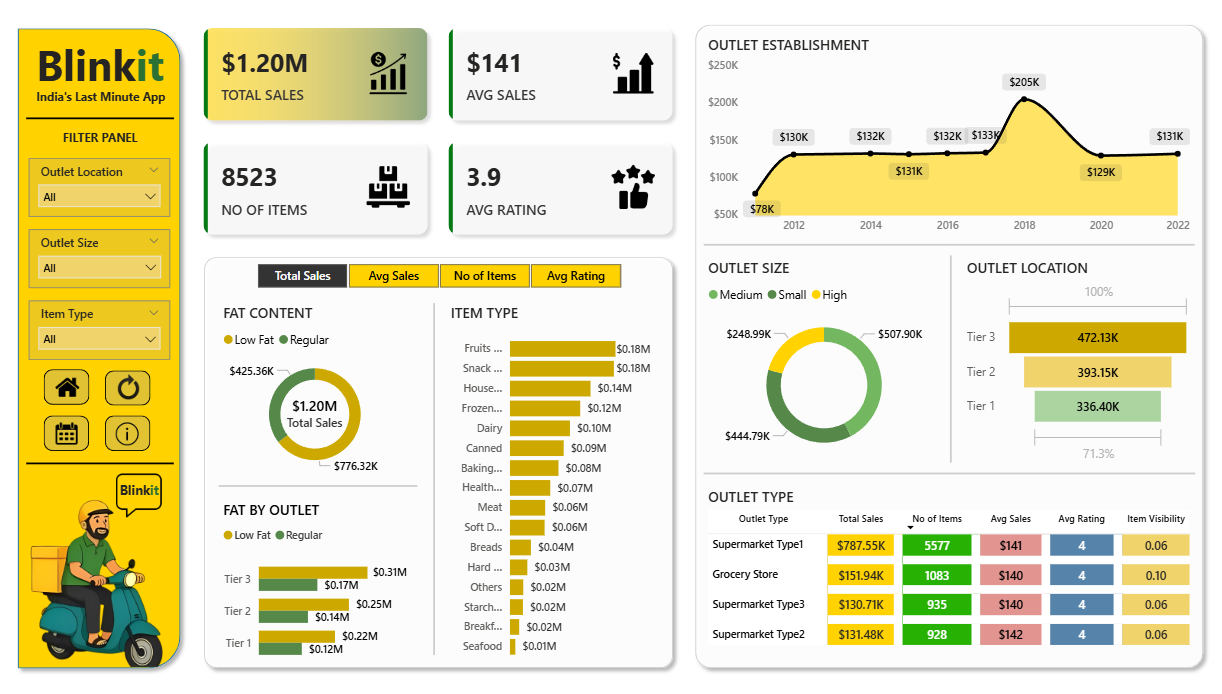

Layout of this report page (visuals, bound fields, positions):
{"tool":"powerbi","page":{"name":"Page 1","canvas":[1400,800],"ordinal":0},"visuals":[{"type":"shape","box":[12.1,25.5,203.8,749.3],"z":0},{"type":"textbox","box":[29.5,38.9,168.9,73.7],"z":1000},{"type":"textbox","box":[29.5,99.2,170.2,28.2],"z":2000},{"type":"cardVisual","fields":{"Data":["BlinkIT Grocery Data.Total Sales","BlinkIT Grocery Data.Avg Sales","BlinkIT Grocery Data.No of Items","BlinkIT Grocery Data.Avg Rating"]},"box":[215.9,17.1,570,270],"z":3000},{"type":"shape","box":[224.8,287.1,553.8,487.6],"z":4000},{"type":"donutChart","title":"FAT CONTENT","fields":{"Y":["BlinkIT Grocery Data.Total Sales"],"Category":["BlinkIT Grocery Data.Item Fat Content"]},"box":[250,348.5,220,203.1],"z":5000},{"type":"slicer","fields":{"Values":["Metrics.Metrics"]},"box":[268.3,296.9,464.8,40],"z":6000},{"type":"cardVisual","fields":{"Data":["BlinkIT Grocery Data.Total Sales"]},"box":[310,436.9,99.2,66.9],"z":7000},{"type":"clusteredBarChart","title":"FAT BY OUTLET","fields":{"Y":["BlinkIT Grocery Data.Total Sales"],"Category":["BlinkIT Grocery Data.Outlet Location Type"],"Series":["BlinkIT Grocery Data.Item Fat Content"]},"box":[250,572.3,220,199.2],"z":8000},{"type":"shape","box":[250,551.5,227,12.5],"z":9000},{"type":"shape","box":[490,348.3,12.2,402.2],"z":10000},{"type":"barChart","title":"ITEM TYPE","fields":{"Y":["BlinkIT Grocery Data.Total Sales"],"Category":["BlinkIT Grocery Data.Item Type"]},"box":[510,349.1,238.2,416.4],"z":11000},{"type":"shape","box":[785.8,21.7,598.3,753.3],"z":12000},{"type":"lineChart","title":"OUTLET ESTABLISHMENT","fields":{"Y":["BlinkIT Grocery Data.Total Sales"],"Category":["BlinkIT Grocery Data.Outlet Establishment Year"]},"box":[804.5,41.8,560.9,236.4],"z":13000},{"type":"shape","box":[804.7,275.3,561.1,12.6],"z":14000},{"type":"donutChart","title":"OUTLET SIZE","fields":{"Category":["BlinkIT Grocery Data.Outlet Size"],"Y":["BlinkIT Grocery Data.Total Sales"]},"box":[804,297.3,275.3,239.3],"z":15000},{"type":"funnel","title":"OUTLET LOCATION","fields":{"Category":["BlinkIT Grocery Data.Outlet Location Type"],"Y":["Sum(BlinkIT Grocery Data.Sales)"]},"box":[1100,297.3,266,239.3],"z":16000},{"type":"shape","box":[1079.3,294,13.3,236.7],"z":17000},{"type":"shape","box":[804.2,536.7,561.7,12.5],"z":18000},{"type":"pivotTable","title":"OUTLET TYPE","fields":{"Rows":["BlinkIT Grocery Data.Outlet Type"],"Values":["BlinkIT Grocery Data.Total Sales","BlinkIT Grocery Data.No of Items","BlinkIT Grocery Data.Avg Sales","BlinkIT Grocery Data.Avg Rating","Avg(BlinkIT Grocery Data.Item Visibility)"]},"box":[804.2,559.2,561.7,191.7],"z":19000},{"type":"slicer","fields":{"Values":["BlinkIT Grocery Data.Outlet Location Type"]},"box":[33.3,182.4,161.4,67.1],"z":20000},{"type":"shape","box":[29.6,130.7,168.9,12.2],"z":21000},{"type":"slicer","fields":{"Values":["BlinkIT Grocery Data.Outlet Size"]},"box":[33.3,263.9,161.7,67.2],"z":22000},{"type":"slicer","fields":{"Values":["BlinkIT Grocery Data.Item Type"]},"box":[33.3,346,161.4,67.9],"z":23000},{"type":"image","box":[20,535.9,185.3,237.6],"z":24000},{"type":"textbox","box":[29.4,145.6,168.8,28.8],"z":25000},{"type":"image","box":[124.6,536.2,68.5,66.2],"z":26000},{"type":"textbox","box":[126.9,547.7,63.8,40],"z":27000},{"type":"shape","box":[50.5,424.7,52.1,40.5],"z":28000},{"type":"image","box":[58.1,425.6,36.9,38.1],"z":29000},{"type":"shape","box":[120,425.6,51.9,40],"z":30000},{"type":"image","box":[122.4,424.7,47.6,40],"z":31000},{"type":"shape","box":[50.6,477.6,51.8,40.6],"z":32000},{"type":"shape","box":[120,477.6,51.8,40.6],"z":33000},{"type":"image","box":[55.5,475.5,41.4,44.5],"z":34000},{"type":"image","box":[126.4,478.2,39.1,39.1],"z":35000},{"type":"shape","box":[29.5,525.2,168.6,12.4],"z":36000}]}

Visuals, with their boxes in screenshot pixels (x1, y1, x2, y2), scaled from the page's 1400x800 canvas onto the 1222x694 screenshot:
shape: region(11, 22, 188, 672)
textbox: region(26, 34, 173, 98)
textbox: region(26, 86, 174, 111)
cardVisual - BlinkIT Grocery Data.Total Sales x BlinkIT Grocery Data.Avg Sales: region(188, 15, 686, 249)
shape: region(196, 249, 680, 672)
"FAT CONTENT" donutChart: region(218, 302, 410, 479)
slicer - Metrics.Metrics: region(234, 258, 640, 292)
cardVisual - BlinkIT Grocery Data.Total Sales: region(271, 379, 357, 437)
"FAT BY OUTLET" clusteredBarChart: region(218, 496, 410, 669)
shape: region(218, 478, 416, 489)
shape: region(428, 302, 438, 651)
"ITEM TYPE" barChart: region(445, 303, 653, 664)
shape: region(686, 19, 1208, 672)
"OUTLET ESTABLISHMENT" lineChart: region(702, 36, 1192, 241)
shape: region(702, 239, 1192, 250)
"OUTLET SIZE" donutChart: region(702, 258, 942, 466)
"OUTLET LOCATION" funnel: region(960, 258, 1192, 466)
shape: region(942, 255, 954, 460)
shape: region(702, 466, 1192, 476)
"OUTLET TYPE" pivotTable: region(702, 485, 1192, 651)
slicer - BlinkIT Grocery Data.Outlet Location Type: region(29, 158, 170, 216)
shape: region(26, 113, 173, 124)
slicer - BlinkIT Grocery Data.Outlet Size: region(29, 229, 170, 287)
slicer - BlinkIT Grocery Data.Item Type: region(29, 300, 170, 359)
image: region(17, 465, 179, 671)
textbox: region(26, 126, 173, 151)
image: region(109, 465, 169, 523)
textbox: region(111, 475, 166, 510)
shape: region(44, 368, 90, 404)
image: region(51, 369, 83, 402)
shape: region(105, 369, 150, 404)
image: region(107, 368, 148, 403)
shape: region(44, 414, 89, 450)
shape: region(105, 414, 150, 450)
image: region(48, 412, 85, 451)
image: region(110, 415, 144, 449)
shape: region(26, 456, 173, 466)
